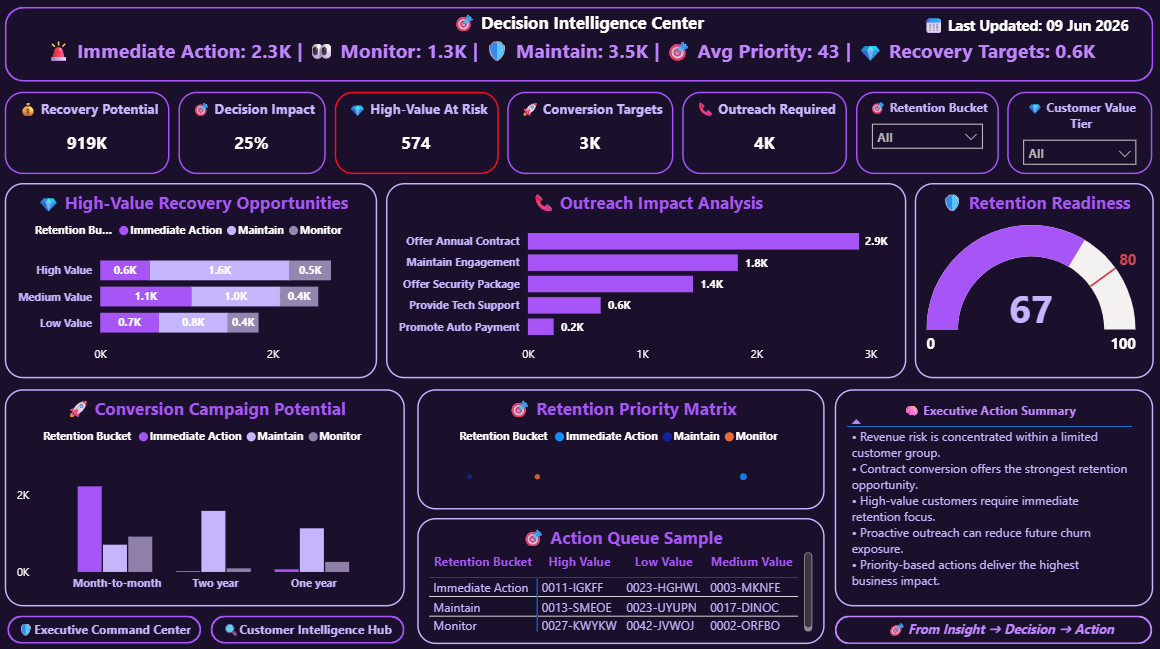

What the dashboard file says about the page in this screenshot:
{"tool":"powerbi","page":{"name":"🎯 Decision Intelligence Center","canvas":[1280,720],"ordinal":2},"visuals":[{"type":"textbox","box":[9.6,9.6,1259.7,67.2],"z":0},{"type":"cardVisual","fields":{"Data":["Page 3.Decision Intelligence Bar1"]},"box":[0,9.6,1261.1,93.3],"z":1000},{"type":"shape","box":[9.6,9.6,1261.1,82.3],"z":2000},{"type":"cardVisual","title":"💰 Recovery Potential","fields":{"Data":["Measure.Revenue Recovery Potential"]},"box":[9.6,102.9,181.1,90.6],"z":3000},{"type":"cardVisual","title":"🎯 Decision Impact","fields":{"Data":["Page 3.Decision Impact Score"]},"box":[200.3,102.9,161.9,90.6],"z":4000},{"type":"cardVisual","title":"💎 High-Value At Risk","fields":{"Data":["Page 3.High-Value At Risk"]},"box":[371.9,102.9,179.8,90.6],"z":5000},{"type":"cardVisual","title":"🚀 Conversion Targets","fields":{"Data":["Measure.Contract Upgrade Opportunity"]},"box":[561.2,102.9,182.5,90.6],"z":6000},{"type":"cardVisual","title":"📞 Outreach Required","fields":{"Data":["Page 3.Outreach Required"]},"box":[753.3,102.9,181.1,90.6],"z":7000},{"type":"slicer","title":"🎯 Retention Bucket","fields":{"Values":["Telco-Customer-Churn.Retention Bucket"]},"box":[944.1,102.9,156.4,90.6],"z":8000},{"type":"slicer","title":"💎 Customer Value Tier","fields":{"Values":["Telco-Customer-Churn.Customer Value Tier"]},"box":[1110.1,102.9,159.2,90.6],"z":9000},{"type":"barChart","title":"💎 High-Value Recovery Opportunities","fields":{"Category":["Telco-Customer-Churn.Customer Value Tier"],"Y":["CountNonNull(Telco-Customer-Churn.customerID)"],"Series":["Telco-Customer-Churn.Retention Bucket"]},"box":[9.6,203.1,408.9,214.1],"z":10000},{"type":"clusteredBarChart","title":"📞 Outreach Impact Analysis","fields":{"Category":["Telco-Customer-Churn.AI Recommendation"],"Y":["CountNonNull(Telco-Customer-Churn.customerID)"]},"box":[428.1,203.1,570.8,214.1],"z":11000},{"type":"clusteredColumnChart","title":"🚀 Conversion Campaign Potential","fields":{"Category":["Telco-Customer-Churn.Contract"],"Y":["CountNonNull(Telco-Customer-Churn.customerID)"],"Series":["Telco-Customer-Churn.Retention Bucket"]},"box":[9.6,429.5,439.1,238.8],"z":12000},{"type":"pivotTable","title":"🎯 Action Queue Sample","fields":{"Rows":["Telco-Customer-Churn.Retention Bucket"],"Columns":["Telco-Customer-Churn.Customer Value Tier"],"Values":["Min(Telco-Customer-Churn.customerID)"]},"box":[462.4,570.8,447.3,138.6],"z":13000},{"type":"scatterChart","title":"🎯 Retention Priority Matrix","fields":{"X":["Sum(Telco-Customer-Churn.Retention Priority Score)"],"Series":["Telco-Customer-Churn.Retention Bucket"],"Size":["Sum(Telco-Customer-Churn.Revenue At Risk)"]},"box":[462.4,429.5,447.3,131.7],"z":14000},{"type":"gauge","title":"🛡️ Retention Readiness","fields":{"Y":["Page 3.Retention Readiness %"],"MaxValue":["Page 3.Gauge Max"],"MinValue":["Page 3.Gauge Min"],"TargetValue":["Page 3.Gauge Target"]},"box":[1008.6,203.1,262.1,214.1],"z":15000},{"type":"tableEx","fields":{"Values":["Page 3.🧠 Executive Action Summary"]},"box":[920.8,429.5,349.9,238.8],"z":16000},{"type":"pageNavigator","box":[12.3,677.9,436.4,31.6],"z":17000},{"type":"cardVisual","fields":{"Data":["Measure.Last Updated"]},"box":[982.5,0,297.8,56.3],"z":18000},{"type":"textbox","box":[934.5,677.9,336.2,42.5],"z":19000},{"type":"shape","box":[920.8,677.9,348.5,31.6],"z":20000}]}

Visuals, with their boxes in screenshot pixels (x1, y1, x2, y2), scaled from the page's 1280x720 canvas onto the 1160x649 screenshot:
textbox: (9, 9, 1150, 69)
cardVisual - Page 3.Decision Intelligence Bar1: (0, 9, 1143, 93)
shape: (9, 9, 1152, 83)
"💰 Recovery Potential" cardVisual: (9, 93, 173, 174)
"🎯 Decision Impact" cardVisual: (182, 93, 328, 174)
"💎 High-Value At Risk" cardVisual: (337, 93, 500, 174)
"🚀 Conversion Targets" cardVisual: (509, 93, 674, 174)
"📞 Outreach Required" cardVisual: (683, 93, 847, 174)
"🎯 Retention Bucket" slicer: (856, 93, 997, 174)
"💎 Customer Value Tier" slicer: (1006, 93, 1150, 174)
"💎 High-Value Recovery Opportunities" barChart: (9, 183, 379, 376)
"📞 Outreach Impact Analysis" clusteredBarChart: (388, 183, 905, 376)
"🚀 Conversion Campaign Potential" clusteredColumnChart: (9, 387, 407, 602)
"🎯 Action Queue Sample" pivotTable: (419, 515, 824, 639)
"🎯 Retention Priority Matrix" scatterChart: (419, 387, 824, 506)
"🛡️ Retention Readiness" gauge: (914, 183, 1152, 376)
tableEx - Page 3.🧠 Executive Action Summary: (834, 387, 1152, 602)
pageNavigator: (11, 611, 407, 640)
cardVisual - Measure.Last Updated: (890, 0, 1159, 51)
textbox: (847, 611, 1152, 648)
shape: (834, 611, 1150, 640)
